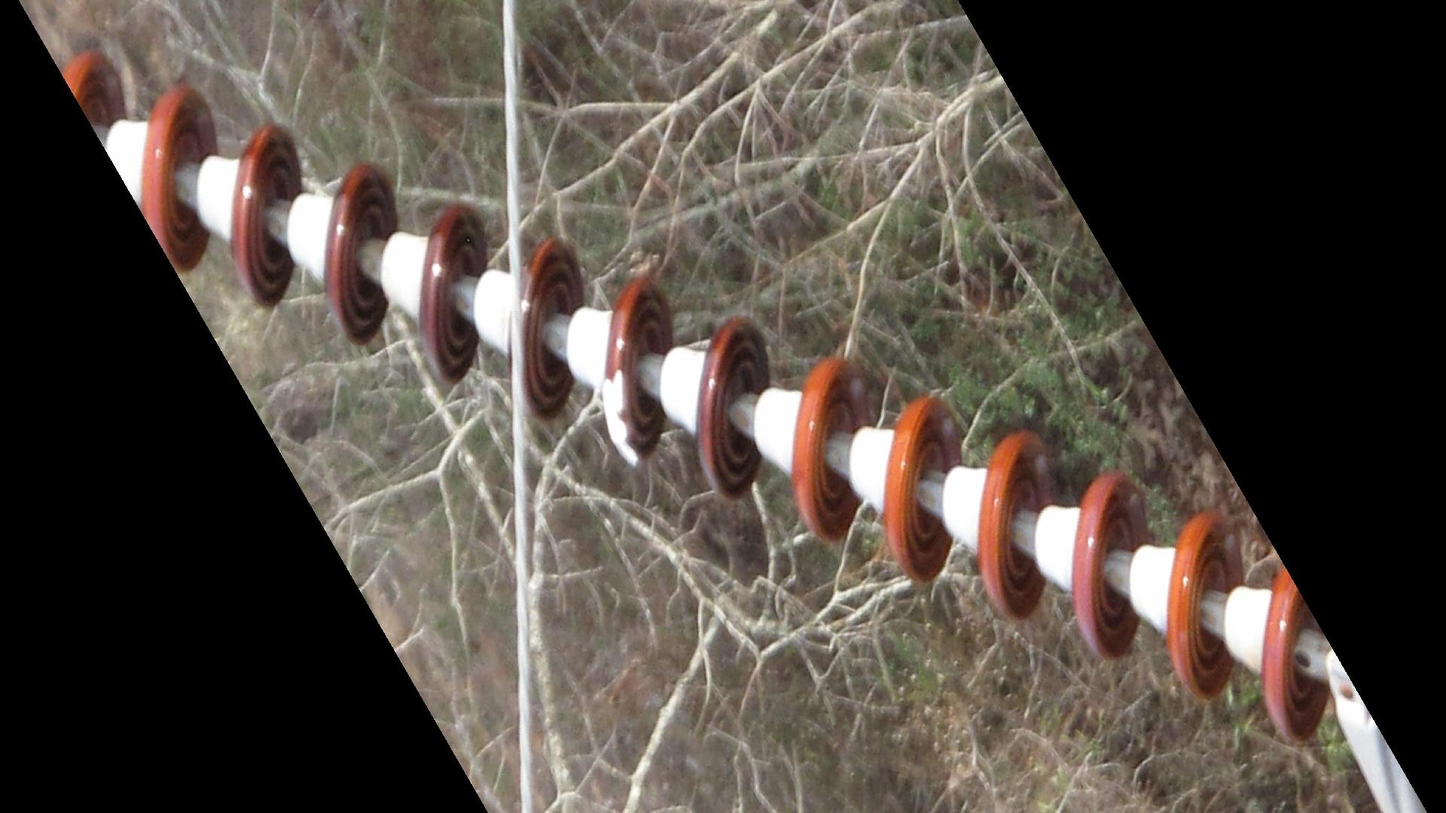insulator: (53, 42, 1340, 750)
insulator_breakage: (596, 363, 651, 473)
